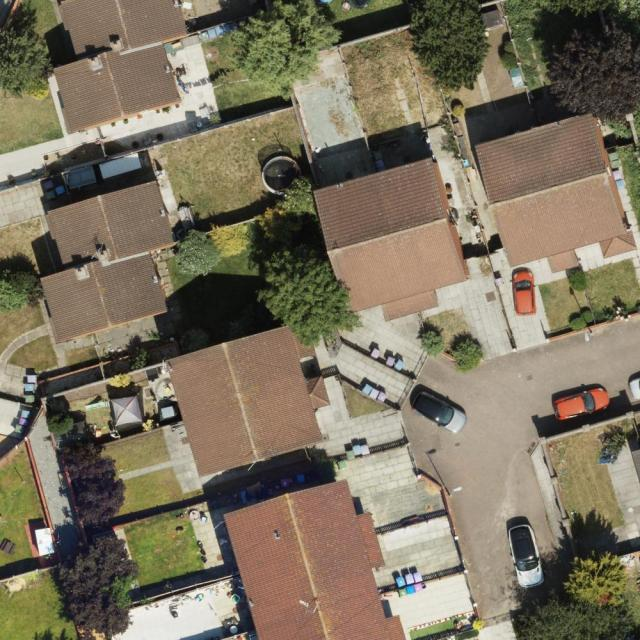roof: (226, 480, 407, 640), (308, 157, 472, 322), (474, 110, 638, 274), (165, 322, 332, 480), (38, 179, 174, 346), (53, 0, 190, 135)
